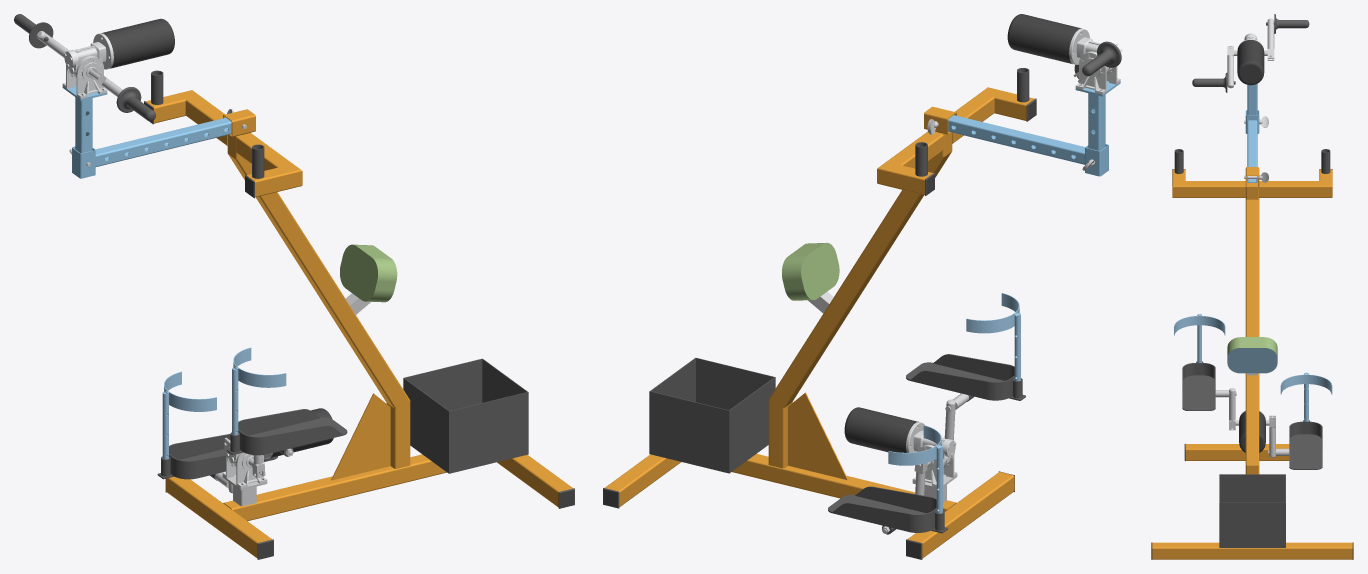
The model's file is BICI_ARMADA.glb.
3 renders of one model, left to right at view 1: azimuth 30°, elevation 25°; view 2: azimuth 150°, elevation 25°; view 3: azimuth 270°, elevation 25°, orthographic. The views are drawn at different scales.
Parts seen in each view (by area): view 1: Solid1:18, Solid1:9, Solid1:1, Solid1:44, Solid1:17, Solid1, Solid1:55, Solid1:28, Solid1:32, Solid1:41, Solid1:31, Solid1:2 (+10 smaller); view 2: Solid1:18, Solid1:9, Solid1:41, Solid1:44, Solid1:17, Solid1:1, Solid1:55, Solid1, Solid1:28, Solid1:32, Solid1:5, Solid1:2 (+11 smaller); view 3: Solid1:18, Solid1:9, Solid1:2, Solid1:55, Solid1:41, Solid1:44, Solid1, Solid1:15, Solid1:11, Solid1:32, Solid1:53, Solid1:54 (+9 smaller).
Boxes of the visible parts, x1,y1,x2,y2 form: Solid1:18: (403, 358, 528, 473); Solid1:9: (228, 154, 410, 408); Solid1:1: (223, 454, 446, 520); Solid1:44: (238, 409, 347, 456); Solid1:17: (331, 393, 390, 480); Solid1: (166, 476, 272, 558); Solid1:55: (340, 244, 397, 302); Solid1:28: (95, 117, 245, 166); Solid1:32: (101, 18, 174, 68); Solid1:41: (169, 434, 277, 480); Solid1:31: (62, 33, 113, 98); Solid1:2: (497, 455, 573, 507); Solid1:18: (649, 357, 775, 473); Solid1:9: (768, 152, 951, 407); Solid1:41: (828, 486, 936, 534); Solid1:44: (906, 354, 1014, 401); Solid1:17: (788, 392, 847, 479); Solid1:1: (732, 453, 956, 511); Solid1:55: (782, 242, 839, 300); Solid1: (907, 472, 1014, 558); Solid1:28: (948, 115, 1084, 164); Solid1:32: (1007, 14, 1081, 63); Solid1:5: (844, 407, 918, 452); Solid1:2: (605, 454, 680, 507); Solid1:18: (1219, 474, 1285, 547); Solid1:9: (1245, 199, 1259, 465); Solid1:2: (1152, 542, 1352, 559); Solid1:55: (1227, 337, 1277, 373); Solid1:41: (1289, 421, 1322, 469); Solid1:44: (1182, 363, 1215, 410); Solid1: (1185, 444, 1289, 460); Solid1:15: (1172, 181, 1245, 197); Solid1:11: (1259, 181, 1332, 197); Solid1:32: (1237, 40, 1264, 85); Solid1:53: (1280, 372, 1332, 421); Solid1:54: (1174, 314, 1225, 362).
Bounding box in the file's own units: 0.7141 × 0.784 × 0.3727.
